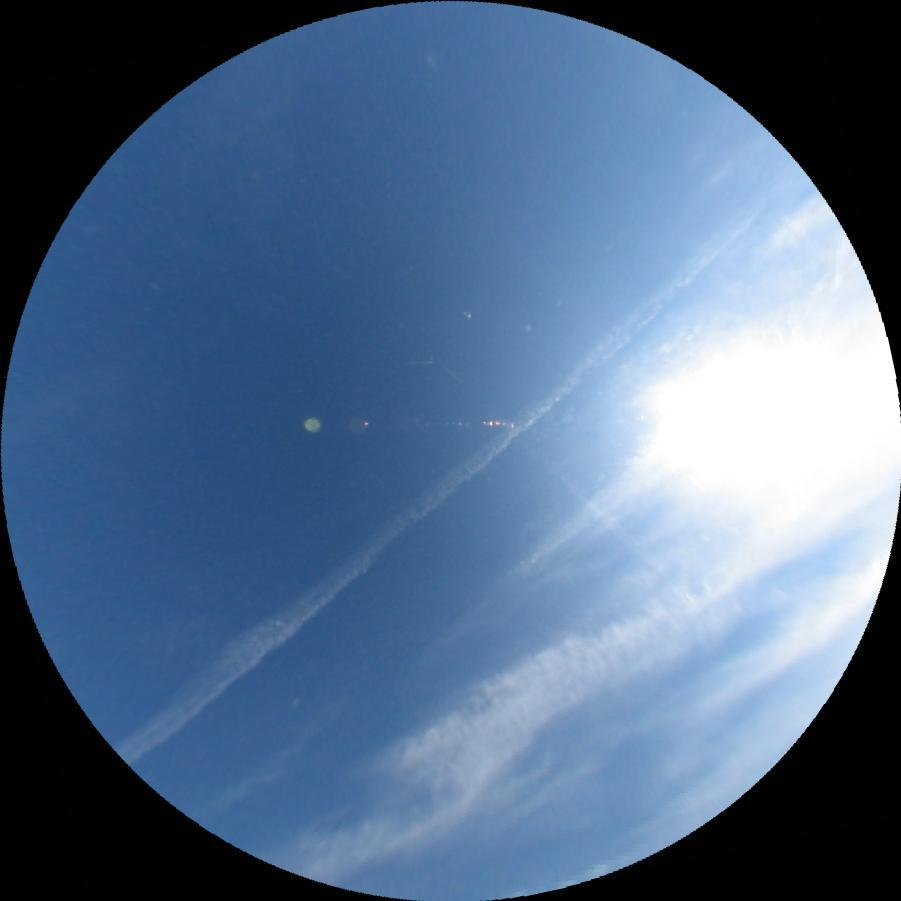contrail veryold: (107, 197, 777, 770), (555, 471, 656, 563)
contrail young: (404, 360, 435, 364)
